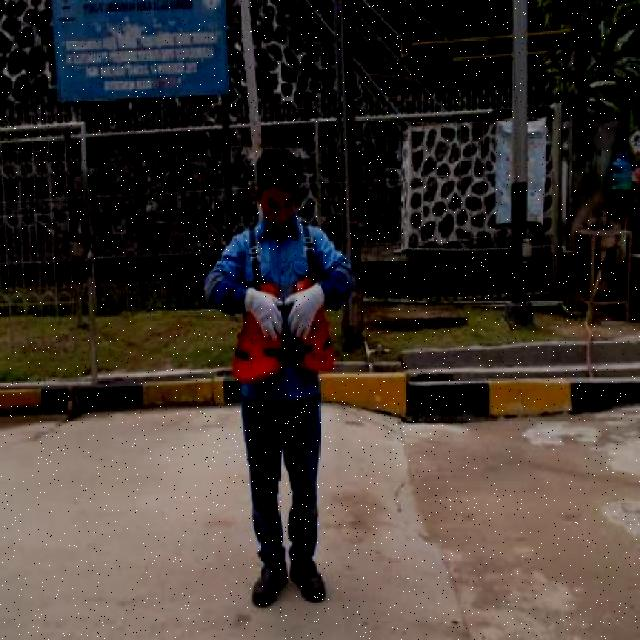Boots: (245, 552, 290, 612), (290, 556, 328, 604)
Gloves: (280, 276, 331, 350), (238, 282, 287, 347)
Mask: (228, 274, 342, 388)
